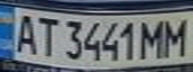1: (118, 18, 139, 61)
3: (60, 17, 84, 61)
4: (81, 18, 103, 62), (100, 18, 121, 62)
A: (9, 10, 39, 55)
M: (139, 17, 169, 60), (160, 15, 190, 57)
T: (33, 14, 60, 57)
